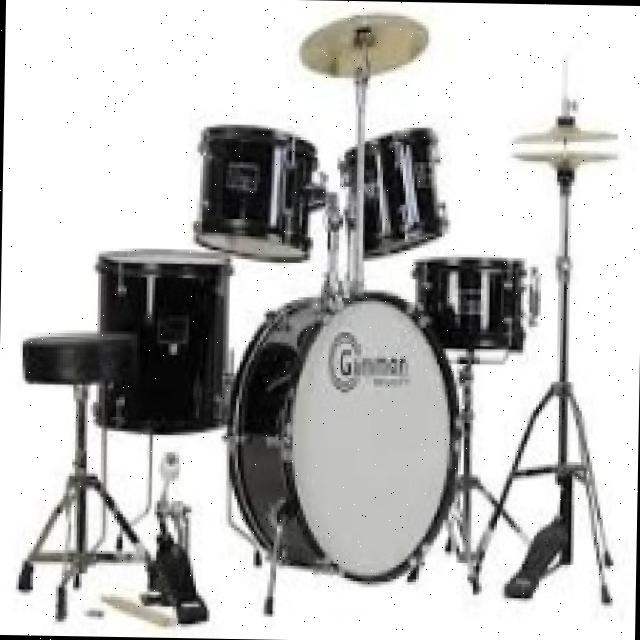drums: (12, 3, 631, 634)
